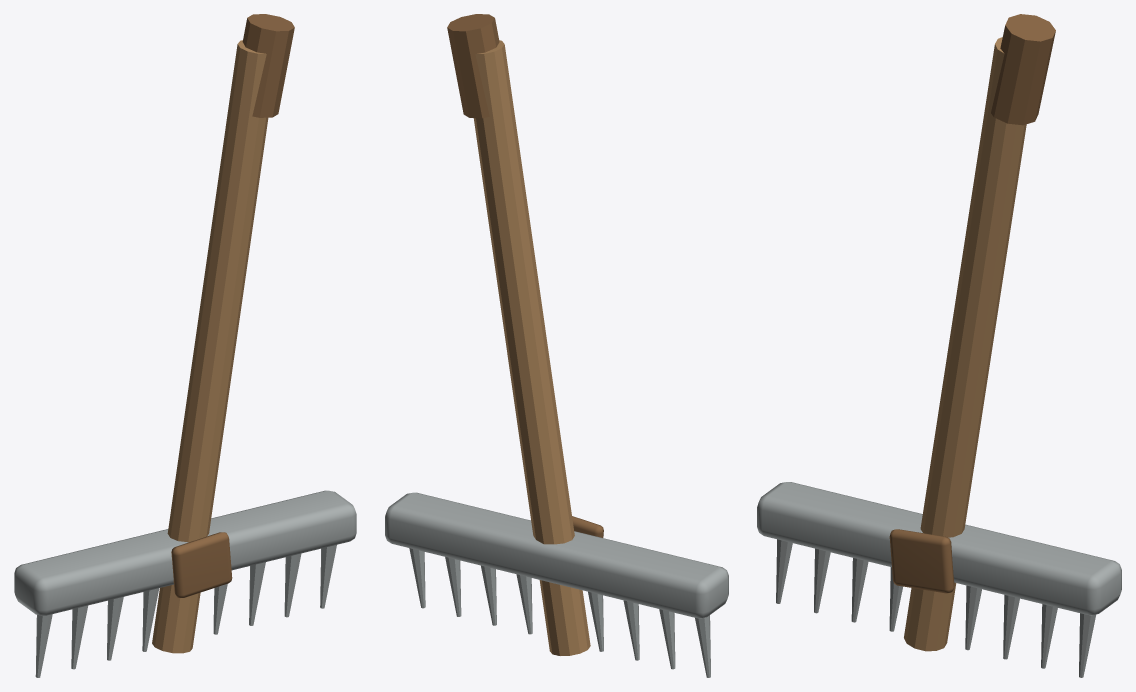
The model's file is ancinho.glb.
3 renders of one model, left to right at view 1: azimuth 30°, elevation 25°; view 2: azimuth 150°, elevation 25°; view 3: azimuth 330°, elevation 25°, orthographic. The views are drawn at different scales.
Parts seen in each view (by area): view 1: Cabo do ancinho, Travessa de ferro, Ponteira do cabo, Abraçadeira central, Dente do ancinho 00, Dente do ancinho 07, Dente do ancinho 08, Dente do ancinho 02, Dente do ancinho 03, Dente do ancinho 01, Dente do ancinho 06; view 2: Cabo do ancinho, Travessa de ferro, Ponteira do cabo, Dente do ancinho 00, Dente do ancinho 08, Dente do ancinho 05, Dente do ancinho 01, Dente do ancinho 02, Dente do ancinho 03, Dente do ancinho 07, Dente do ancinho 06; view 3: Cabo do ancinho, Travessa de ferro, Ponteira do cabo, Abraçadeira central, Dente do ancinho 08, Dente do ancinho 02, Dente do ancinho 05, Dente do ancinho 06, Dente do ancinho 07, Dente do ancinho 00, Dente do ancinho 01.
Boxes of the visible parts, x1,y1,x2,y2 form: Cabo do ancinho: (152, 40, 268, 653); Travessa de ferro: (14, 490, 356, 615); Ponteira do cabo: (242, 14, 294, 117); Abraçadeira central: (171, 532, 232, 597); Dente do ancinho 00: (35, 614, 52, 677); Dente do ancinho 07: (284, 553, 301, 617); Dente do ancinho 08: (320, 545, 336, 608); Dente do ancinho 02: (107, 597, 123, 660); Dente do ancinho 03: (142, 588, 159, 651); Dente do ancinho 01: (71, 605, 88, 669); Dente do ancinho 06: (249, 562, 265, 625); Cabo do ancinho: (473, 40, 590, 655); Travessa de ferro: (385, 492, 728, 618); Ponteira do cabo: (447, 14, 499, 118); Dente do ancinho 00: (695, 615, 710, 677); Dente do ancinho 08: (409, 548, 425, 608); Dente do ancinho 05: (516, 574, 532, 634); Dente do ancinho 01: (659, 609, 675, 669); Dente do ancinho 02: (623, 600, 639, 660); Dente do ancinho 03: (588, 591, 603, 651); Dente do ancinho 07: (445, 557, 461, 616); Dente do ancinho 06: (481, 565, 496, 625); Cabo do ancinho: (904, 37, 1026, 651); Travessa de ferro: (757, 482, 1121, 615); Ponteira do cabo: (991, 14, 1055, 125); Abraçadeira central: (889, 529, 954, 593); Dente do ancinho 08: (1079, 613, 1096, 677); Dente do ancinho 02: (851, 558, 868, 622); Dente do ancinho 05: (965, 585, 981, 650); Dente do ancinho 06: (1003, 595, 1019, 659); Dente do ancinho 07: (1041, 604, 1057, 668); Dente do ancinho 00: (776, 539, 792, 603); Dente do ancinho 01: (814, 548, 830, 613).
Bounding box in the file's own units: 0.49 × 0.8807 × 0.0895.
